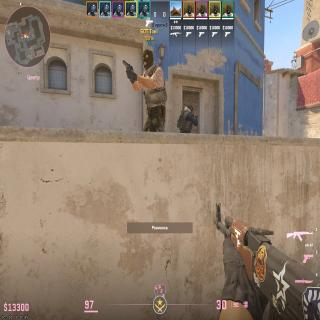CT-Body: (177, 102, 198, 132)
CT-Head: (188, 103, 194, 112)
T-Body: (140, 48, 167, 132)
T-Head: (142, 48, 154, 69)
